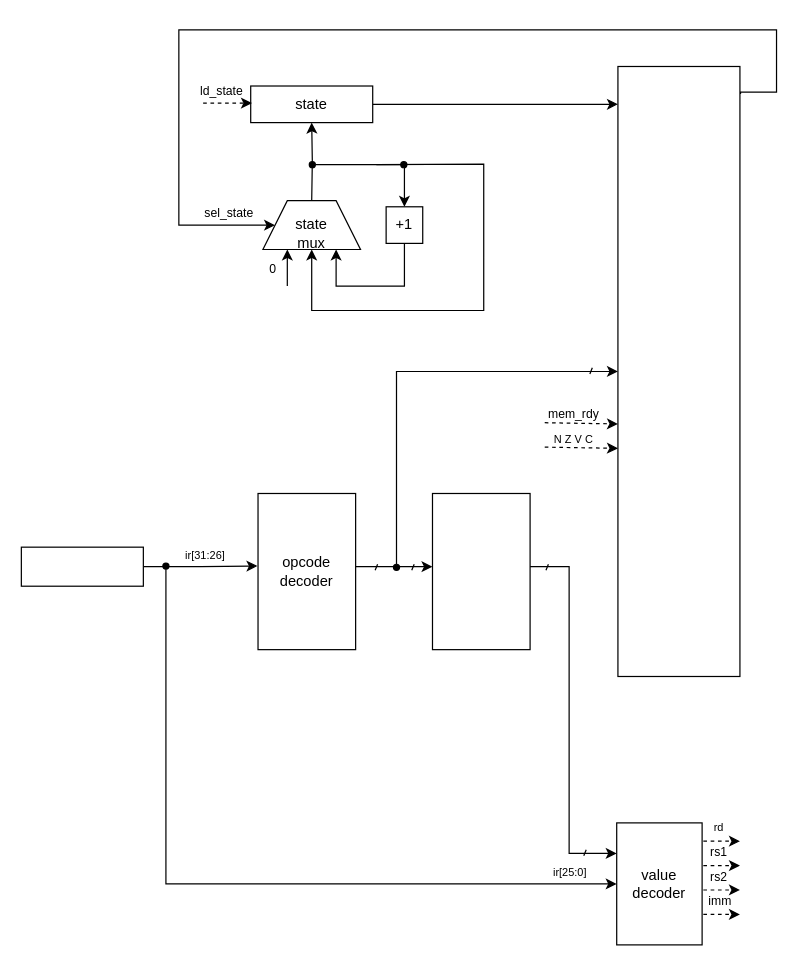
This 808x966 diagram has some shape labels left out. Here are the shapes that lost their labels. From the top down, the centre of each, then its label:
At point 678,370: "логика управляющих сигналов".
At point 81,566: "ir".
At point 480,571: "format decoder".
